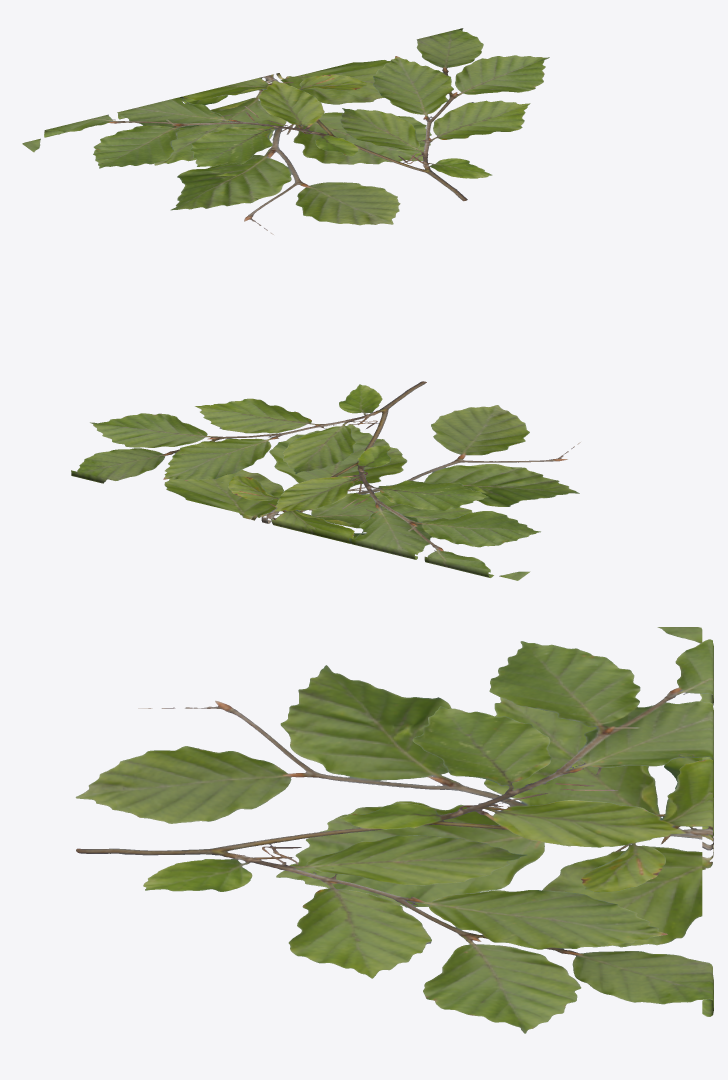
Rendered from rug01.fbx.
The picture shows the model from 3 angles, top to bottom: view 1: azimuth 30°, elevation 25°; view 2: azimuth 150°, elevation 25°; view 3: azimuth 270°, elevation 25°; orthographic projection. The views are drawn at different scales.
Parts seen in each view (by area): view 1: Henrik_Hand_Tufted_Wool_Rug_Grey_and_RedMulti_120x180cm_HENR; view 2: Henrik_Hand_Tufted_Wool_Rug_Grey_and_RedMulti_120x180cm_HENR; view 3: Henrik_Hand_Tufted_Wool_Rug_Grey_and_RedMulti_120x180cm_HENR.
Part boxes in pixels (x1,y1,x2,y2): Henrik_Hand_Tufted_Wool_Rug_Grey_and_RedMulti_120x180cm_HENR: (22, 28, 549, 234); Henrik_Hand_Tufted_Wool_Rug_Grey_and_RedMulti_120x180cm_HENR: (71, 381, 580, 580); Henrik_Hand_Tufted_Wool_Rug_Grey_and_RedMulti_120x180cm_HENR: (75, 627, 713, 1033).
Bounding box in the file's own units: 18000 × 290 × 12000.
